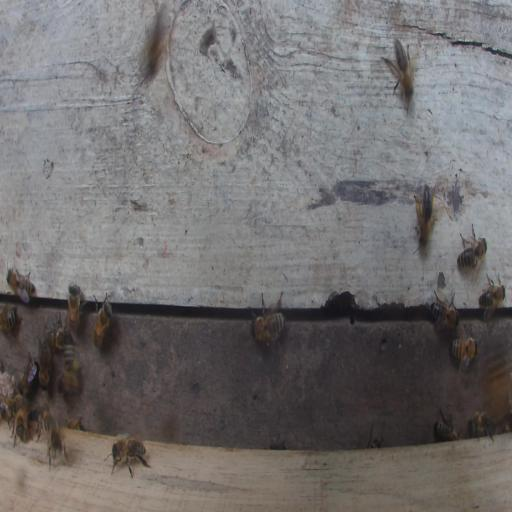nonpollenbee: (386, 37, 416, 103), (107, 433, 150, 479), (250, 306, 286, 350), (46, 415, 71, 469), (478, 271, 506, 319), (430, 291, 460, 333), (92, 291, 113, 350), (456, 234, 488, 272), (6, 266, 35, 303), (43, 319, 73, 351), (17, 352, 38, 396), (11, 406, 33, 446), (434, 409, 460, 442), (469, 410, 495, 442), (451, 336, 478, 366), (67, 281, 81, 330), (0, 304, 21, 334), (37, 407, 56, 440), (39, 343, 52, 391), (495, 413, 511, 434)
pollenbee: (416, 185, 436, 246), (64, 342, 79, 398), (72, 419, 83, 431)
